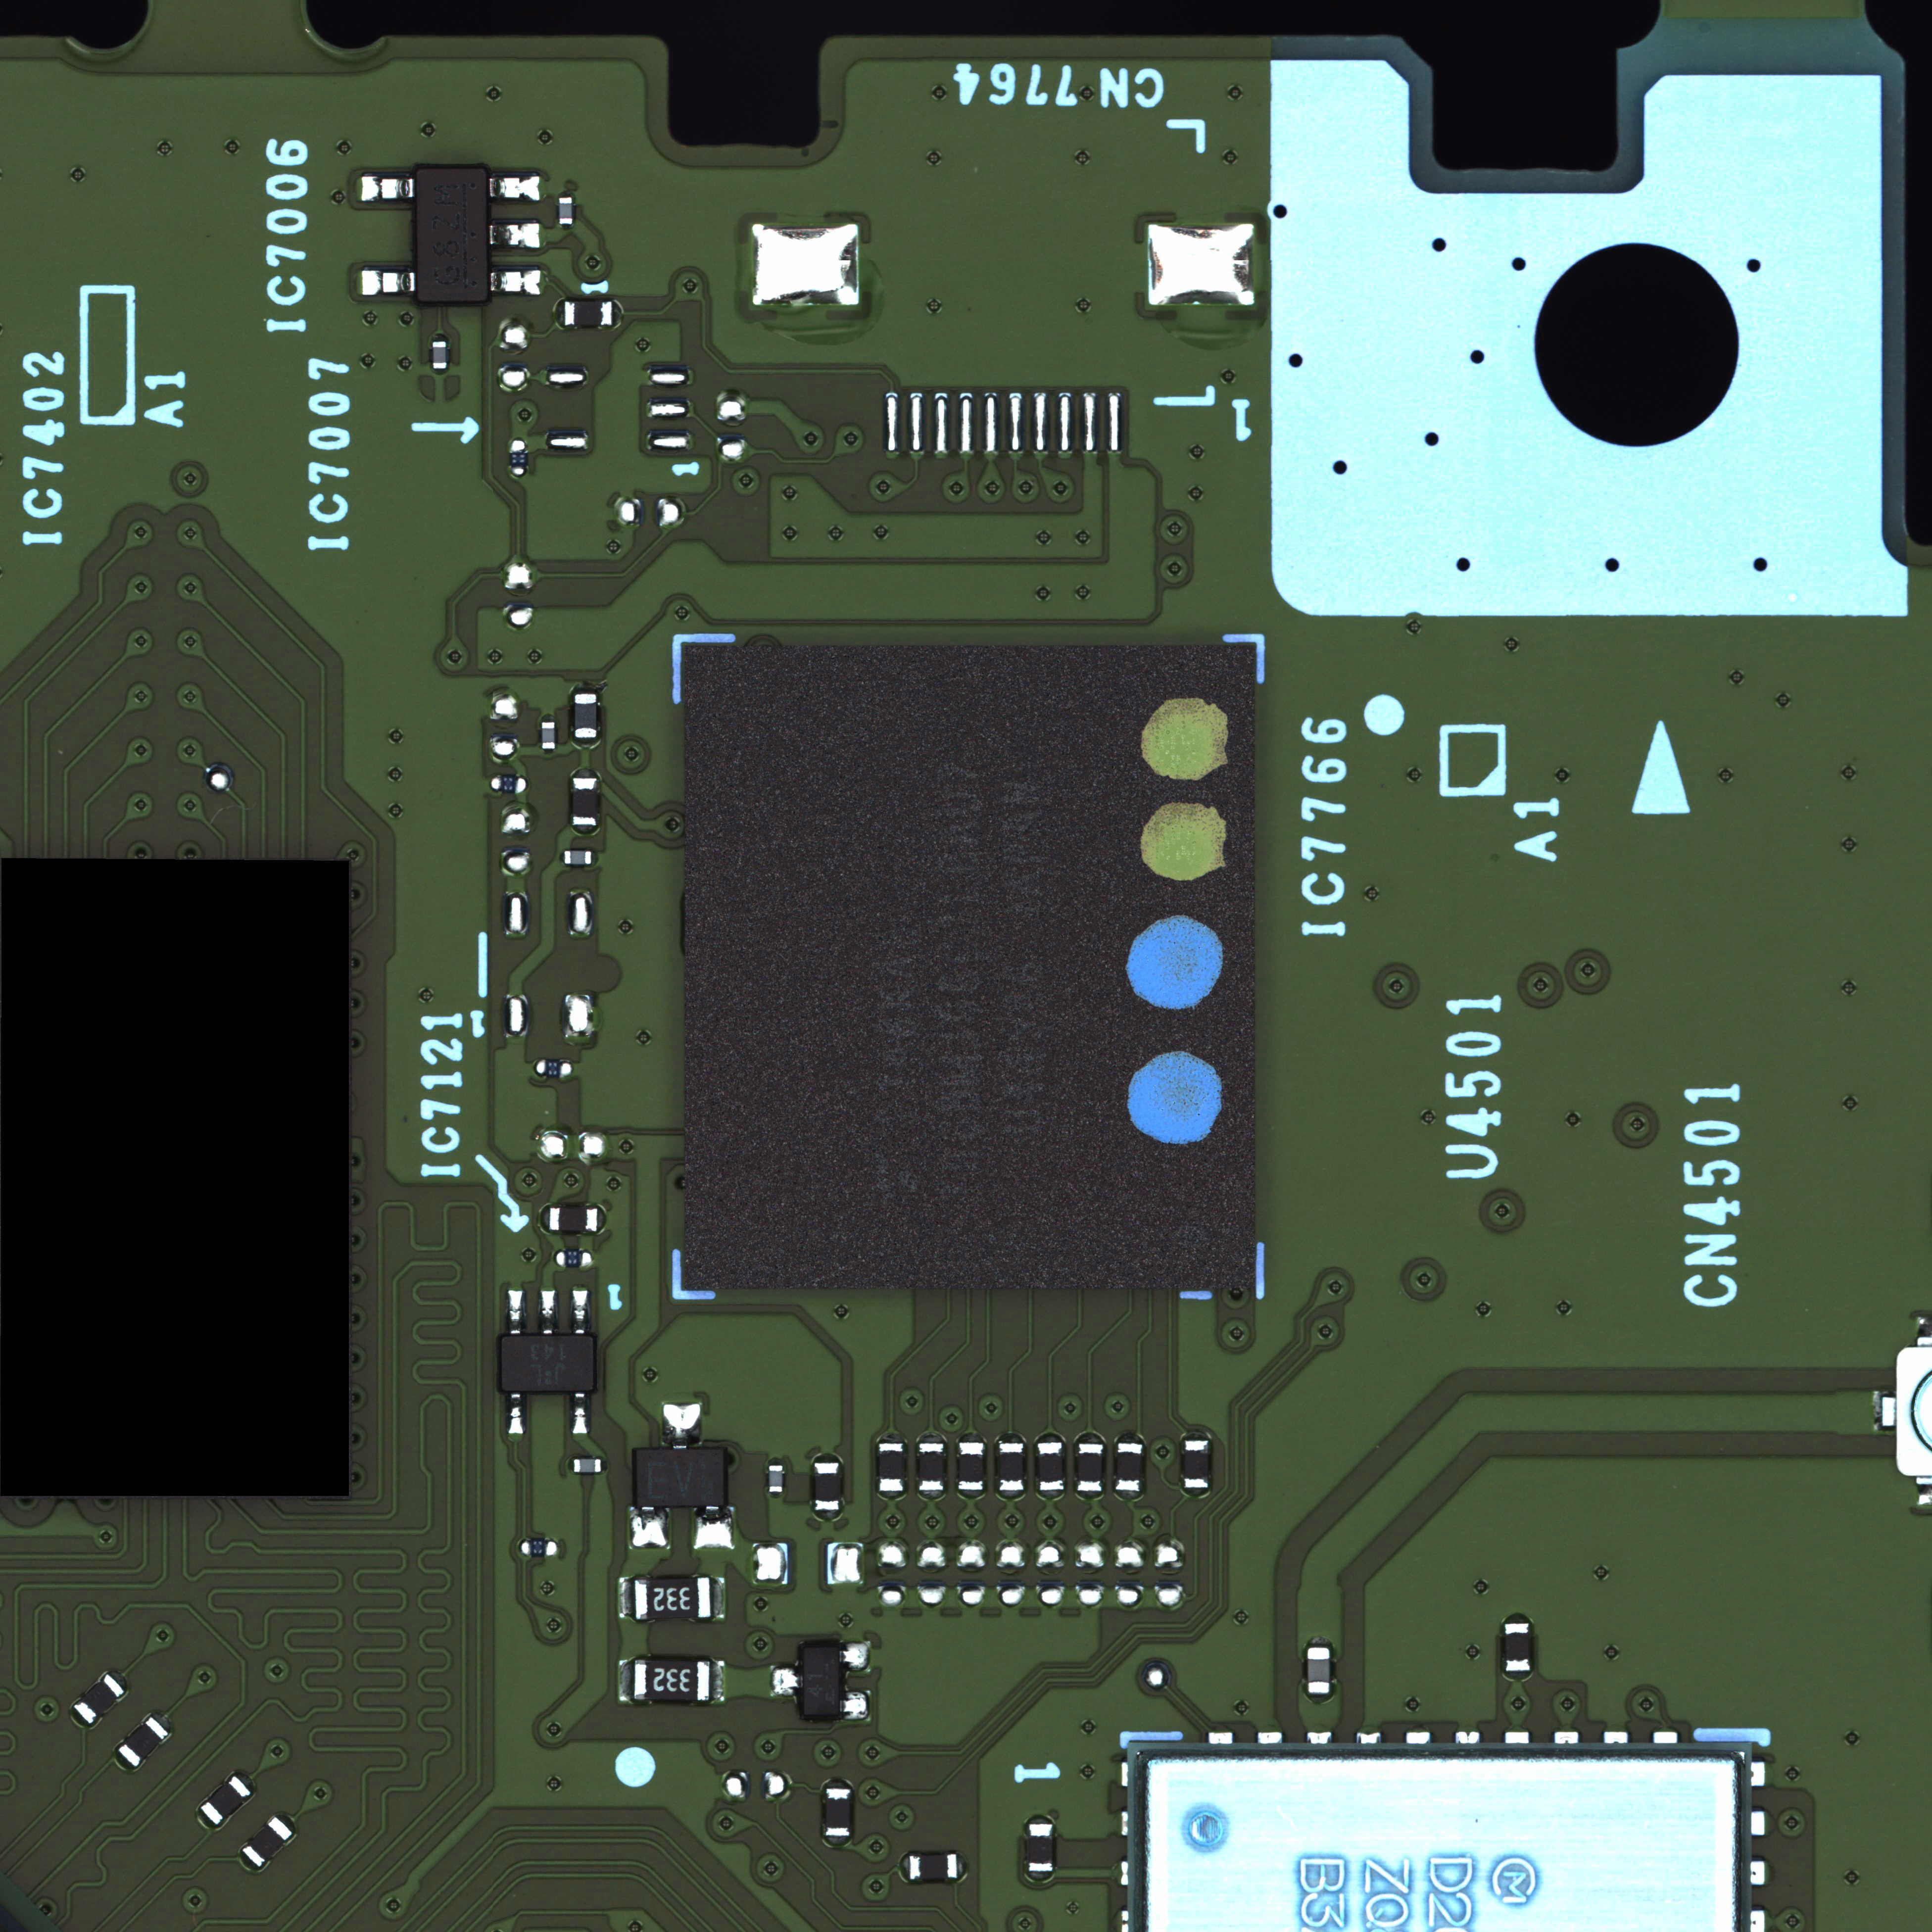Package: (681, 644, 1256, 1290), (416, 170, 488, 301), (632, 1451, 729, 1506), (501, 1336, 594, 1392), (633, 1576, 711, 1617), (633, 1660, 709, 1700), (241, 1815, 294, 1868), (198, 1775, 253, 1826), (73, 1674, 126, 1725), (117, 1716, 170, 1767), (803, 1645, 840, 1718), (1037, 1442, 1065, 1491), (1115, 1442, 1143, 1491), (1076, 1444, 1104, 1491), (1504, 1622, 1530, 1672), (918, 1442, 945, 1491), (571, 778, 598, 826), (878, 1444, 904, 1491), (957, 1442, 984, 1490), (1184, 1440, 1210, 1488), (814, 1463, 840, 1511), (909, 1854, 957, 1881), (1000, 1442, 1024, 1491), (1028, 1824, 1053, 1872), (550, 1207, 598, 1231), (824, 1789, 849, 1836), (564, 301, 612, 326), (1306, 1649, 1330, 1693), (573, 694, 598, 738), (432, 341, 448, 368), (541, 722, 556, 750), (768, 1465, 782, 1493), (564, 851, 591, 865), (559, 196, 571, 225), (573, 1460, 602, 1472)
Solder: (662, 1401, 702, 1449), (694, 1506, 736, 1550), (628, 1506, 671, 1550), (488, 172, 541, 203), (488, 218, 541, 249), (488, 265, 541, 295), (361, 265, 414, 295), (361, 172, 414, 202), (770, 1665, 803, 1697), (840, 1640, 872, 1674), (840, 1690, 872, 1721), (108, 1748, 136, 1776), (571, 1290, 589, 1334), (65, 1706, 92, 1734), (540, 1290, 556, 1336), (508, 1290, 524, 1336), (106, 1665, 133, 1691), (150, 1707, 177, 1734), (234, 1767, 260, 1794), (571, 1392, 587, 1435), (617, 1660, 633, 1702), (617, 1576, 633, 1619), (508, 1392, 524, 1435), (234, 1851, 260, 1875), (276, 1810, 301, 1835), (711, 1660, 725, 1702), (711, 1576, 725, 1619), (897, 1851, 909, 1884), (1024, 1872, 1056, 1884), (552, 297, 564, 329), (570, 681, 600, 694), (810, 1511, 844, 1522), (810, 1451, 844, 1461), (957, 1851, 968, 1884), (1024, 1813, 1056, 1824), (821, 1776, 853, 1787), (1180, 1488, 1212, 1499), (996, 1491, 1028, 1502), (1074, 1491, 1106, 1502), (1035, 1491, 1067, 1502), (955, 1491, 987, 1502), (876, 1491, 908, 1502), (959, 1430, 985, 1442), (823, 1836, 853, 1847), (538, 1205, 548, 1235), (570, 740, 600, 750), (916, 1491, 947, 1502), (996, 1431, 1026, 1442), (1076, 1431, 1106, 1442), (571, 826, 600, 837), (1116, 1431, 1145, 1442), (878, 1431, 906, 1442), (918, 1431, 947, 1442), (1037, 1431, 1065, 1442), (1180, 1430, 1212, 1438), (1113, 1493, 1145, 1502), (614, 299, 623, 331), (571, 766, 598, 777), (1506, 1612, 1532, 1622), (1504, 1672, 1532, 1681), (1306, 1693, 1334, 1702), (598, 1205, 607, 1233), (768, 1456, 786, 1465), (432, 333, 448, 341), (540, 713, 556, 722), (602, 1456, 609, 1474), (557, 189, 573, 196), (593, 851, 600, 867), (432, 370, 449, 375), (568, 1456, 573, 1474), (557, 225, 573, 230), (541, 750, 557, 755), (559, 849, 564, 865), (768, 1493, 784, 1499)
